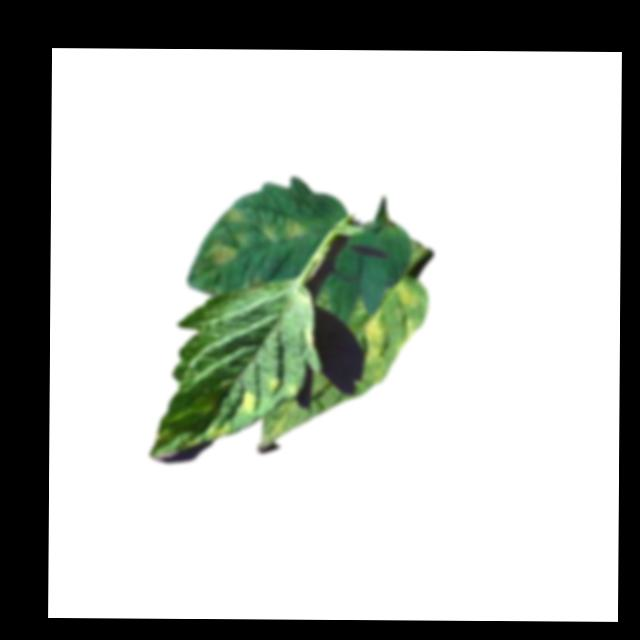Leaf_Mold: (365, 313, 391, 370), (271, 217, 309, 244), (395, 280, 424, 309), (206, 245, 239, 268), (222, 207, 249, 234), (237, 389, 260, 414)
